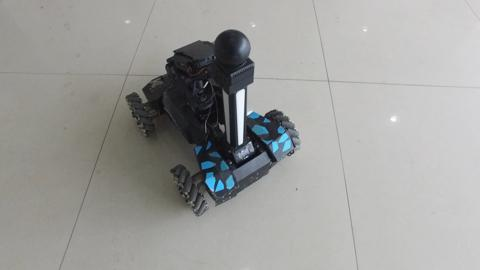chariot: (120, 28, 289, 195)
